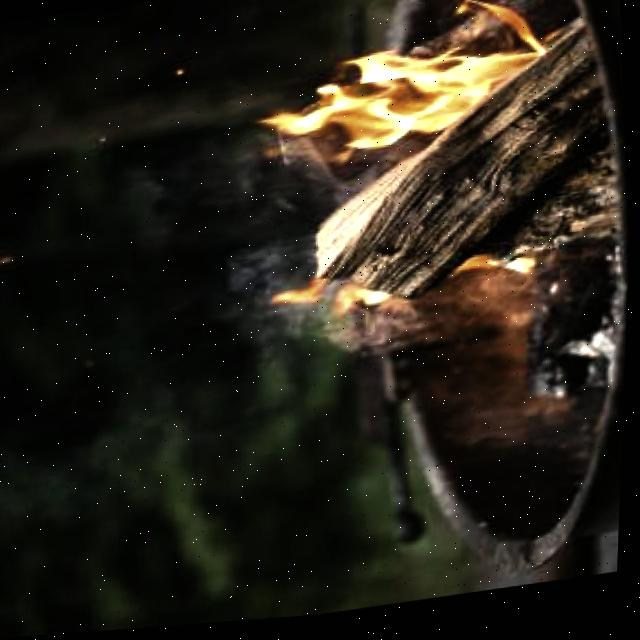Fire: (261, 8, 553, 172), (254, 240, 537, 334)
